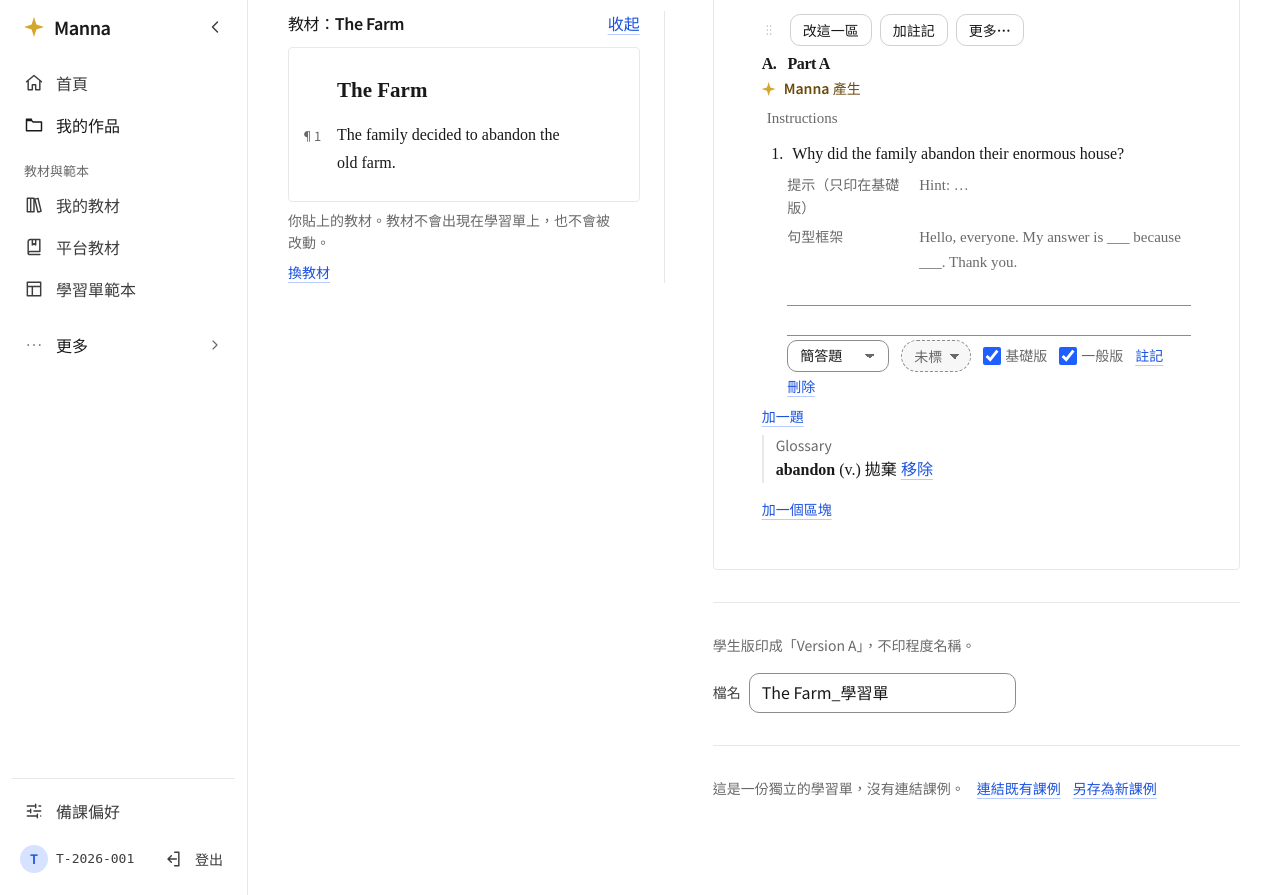
it: 詞彙級別檢查：處理超出級別的字 › shows the Glossary in the editor and takes an entry off the version shown
The image size is (1280, 895).
(page scrolled)
Check: the text "(v.) 拋棄" is shown, box top-left (839, 461), bottom-right (897, 478)
Click the button with aria-label "移除字義 abandon" at (917, 470), box top-left (901, 457), bottom-right (933, 483)
(page scrolled)
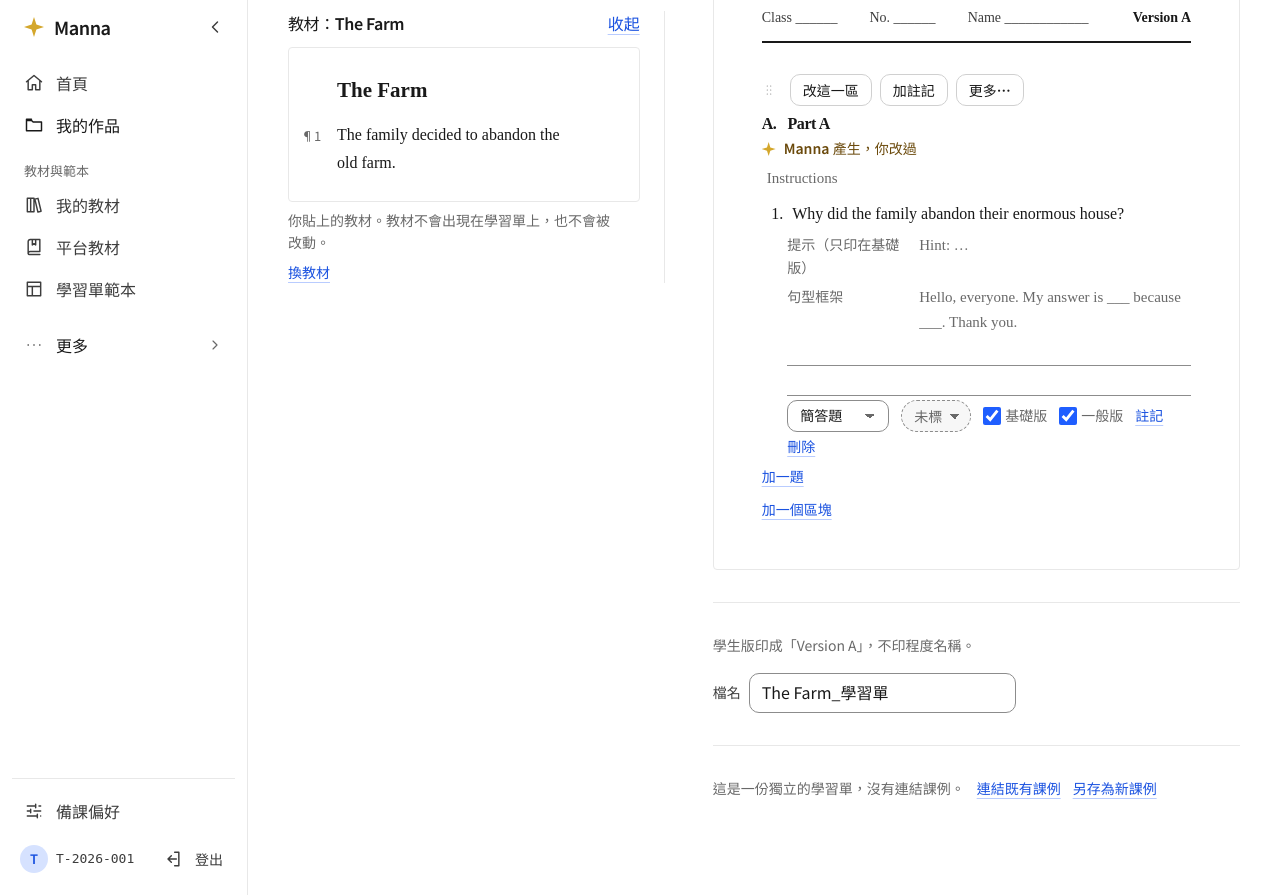
Check: the text labelled "Glossary" is gone
